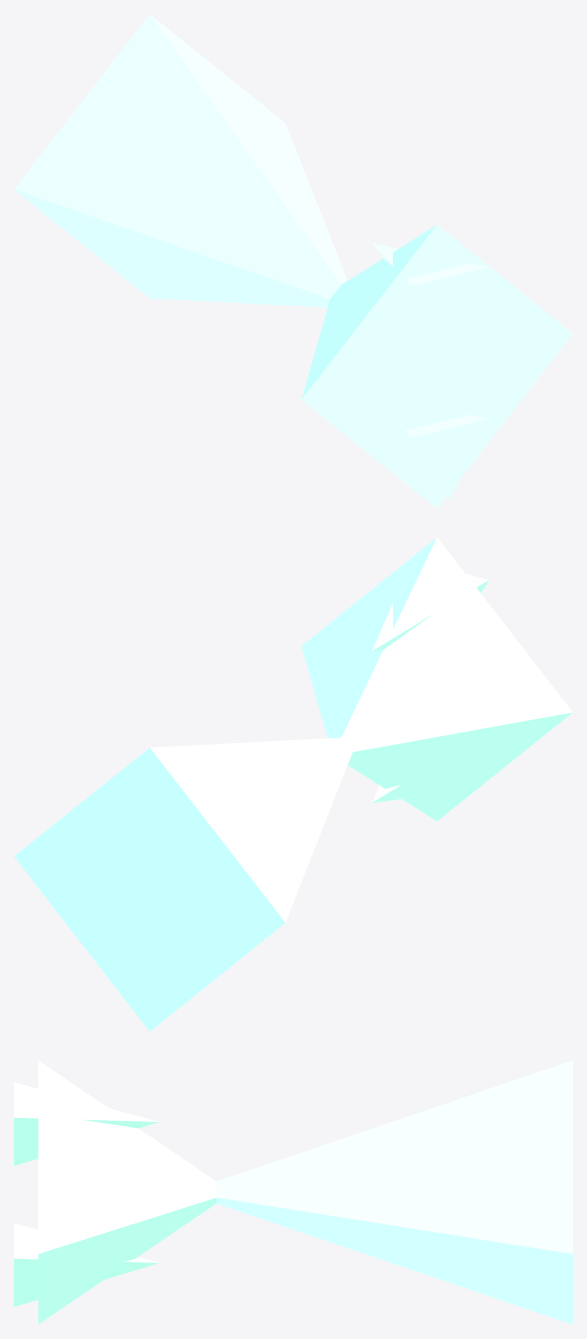
Rendered from enemy_fast.glb.
3 renders of one model, top to bottom at view 1: azimuth 30°, elevation 25°; view 2: azimuth 150°, elevation 25°; view 3: azimuth 270°, elevation 25°, orthographic. The views are drawn at different scales.
Visible parts, largest first — view 1: enemy_fast; view 2: enemy_fast; view 3: enemy_fast.
Part boxes in pixels (x1,y1,x2,y2): enemy_fast: (14,14,572,508); enemy_fast: (14,537,572,1031); enemy_fast: (14,1060,572,1324).
Size of the model in its own units: 0.3 by 0.3 by 0.575.
